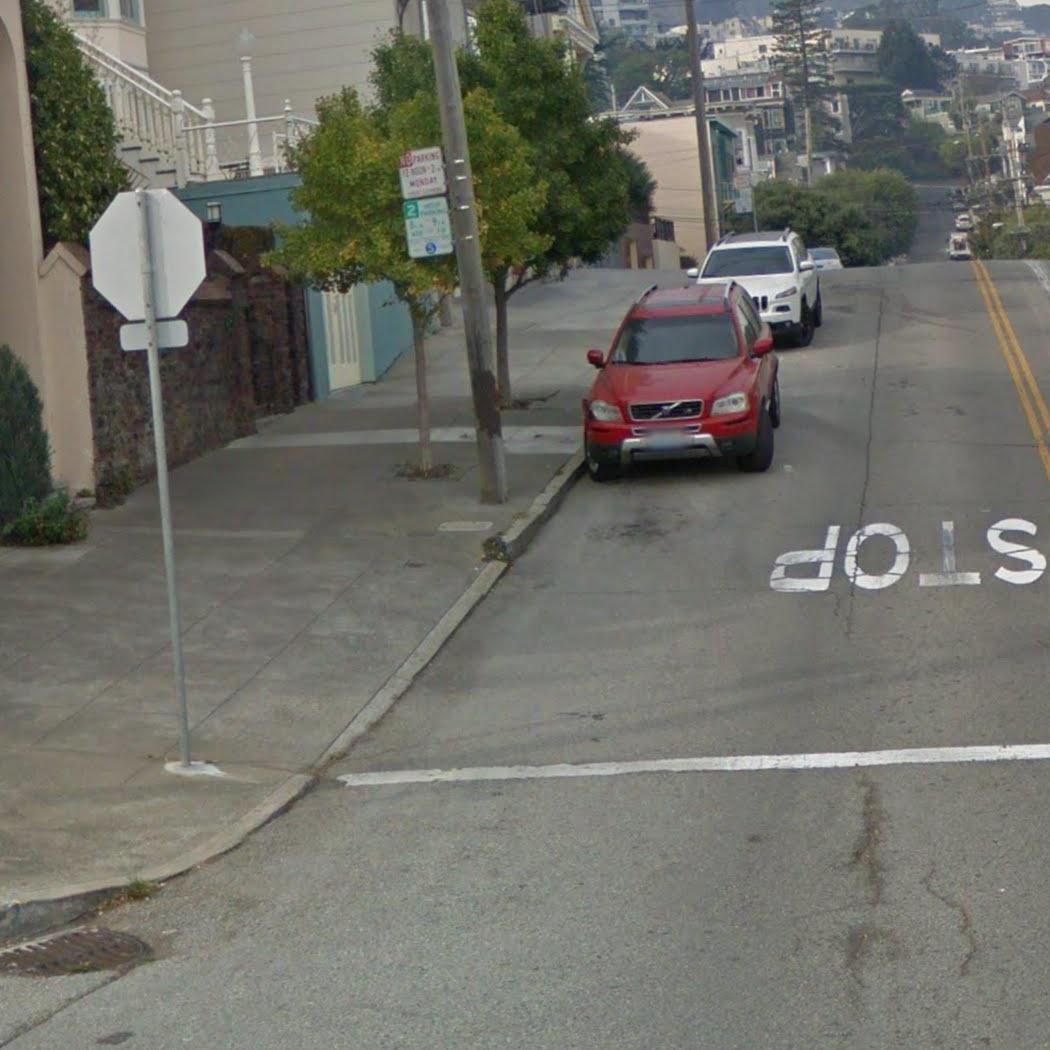2 Hour Parking: (404, 198, 455, 257)
No Parking: (397, 145, 448, 199)
